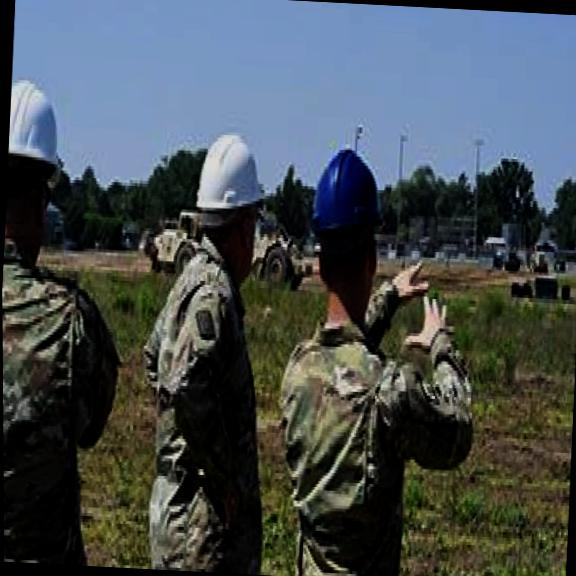no_safety_vest: (281, 309, 422, 547), (143, 261, 269, 516), (2, 255, 112, 518)
